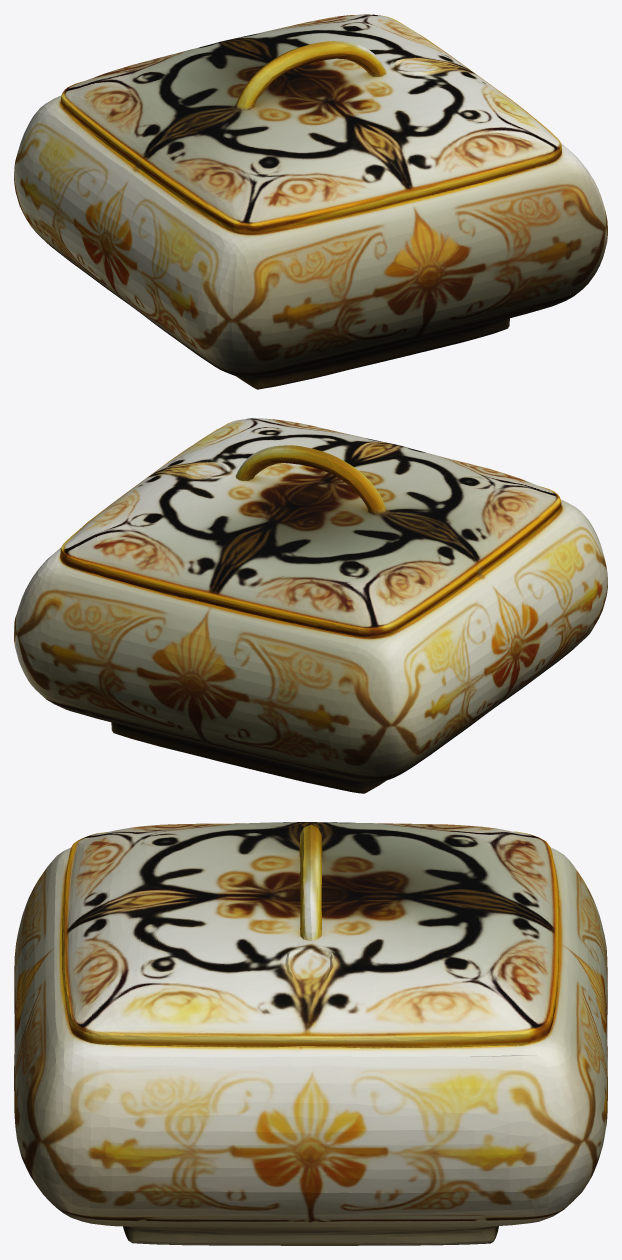
Rendered from porcelain-ring-box-art-deco.jpeg.glb.
3 renders of one model, top to bottom at view 1: azimuth 30°, elevation 25°; view 2: azimuth 150°, elevation 25°; view 3: azimuth 270°, elevation 25°, orthographic. The views are drawn at different scales.
Visible parts, largest first — view 1: world; view 2: world; view 3: world.
Part boxes in pixels (box(x1,y1,x2,y2)): world: box(14, 14, 607, 389); world: box(14, 418, 607, 793); world: box(14, 822, 607, 1245).
Bounding box in the file's own units: 0.9888 × 0.605 × 0.9893.
Materials: 1 (1 with a texture image).
